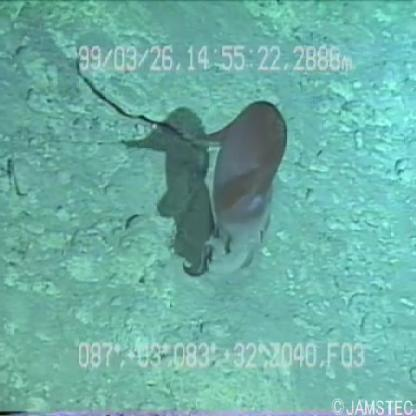Bio: (191, 95, 293, 283)
